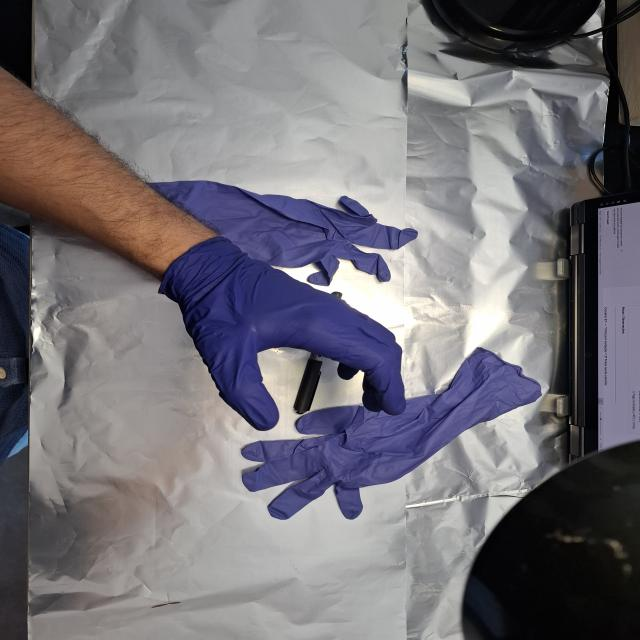glove_on: (160, 234, 410, 433)
